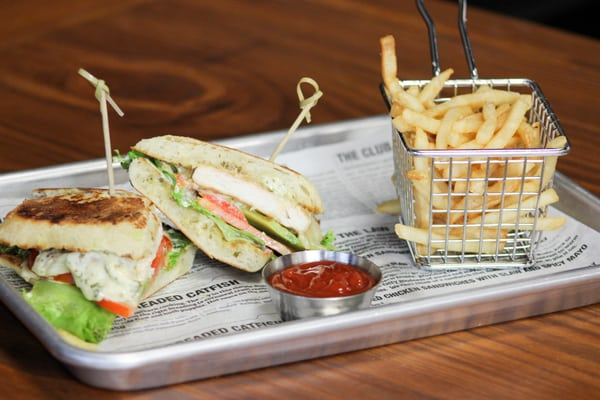salad: (269, 76, 324, 163)
soup: (0, 185, 197, 332), (124, 133, 326, 273)
sushi: (264, 249, 383, 320)
